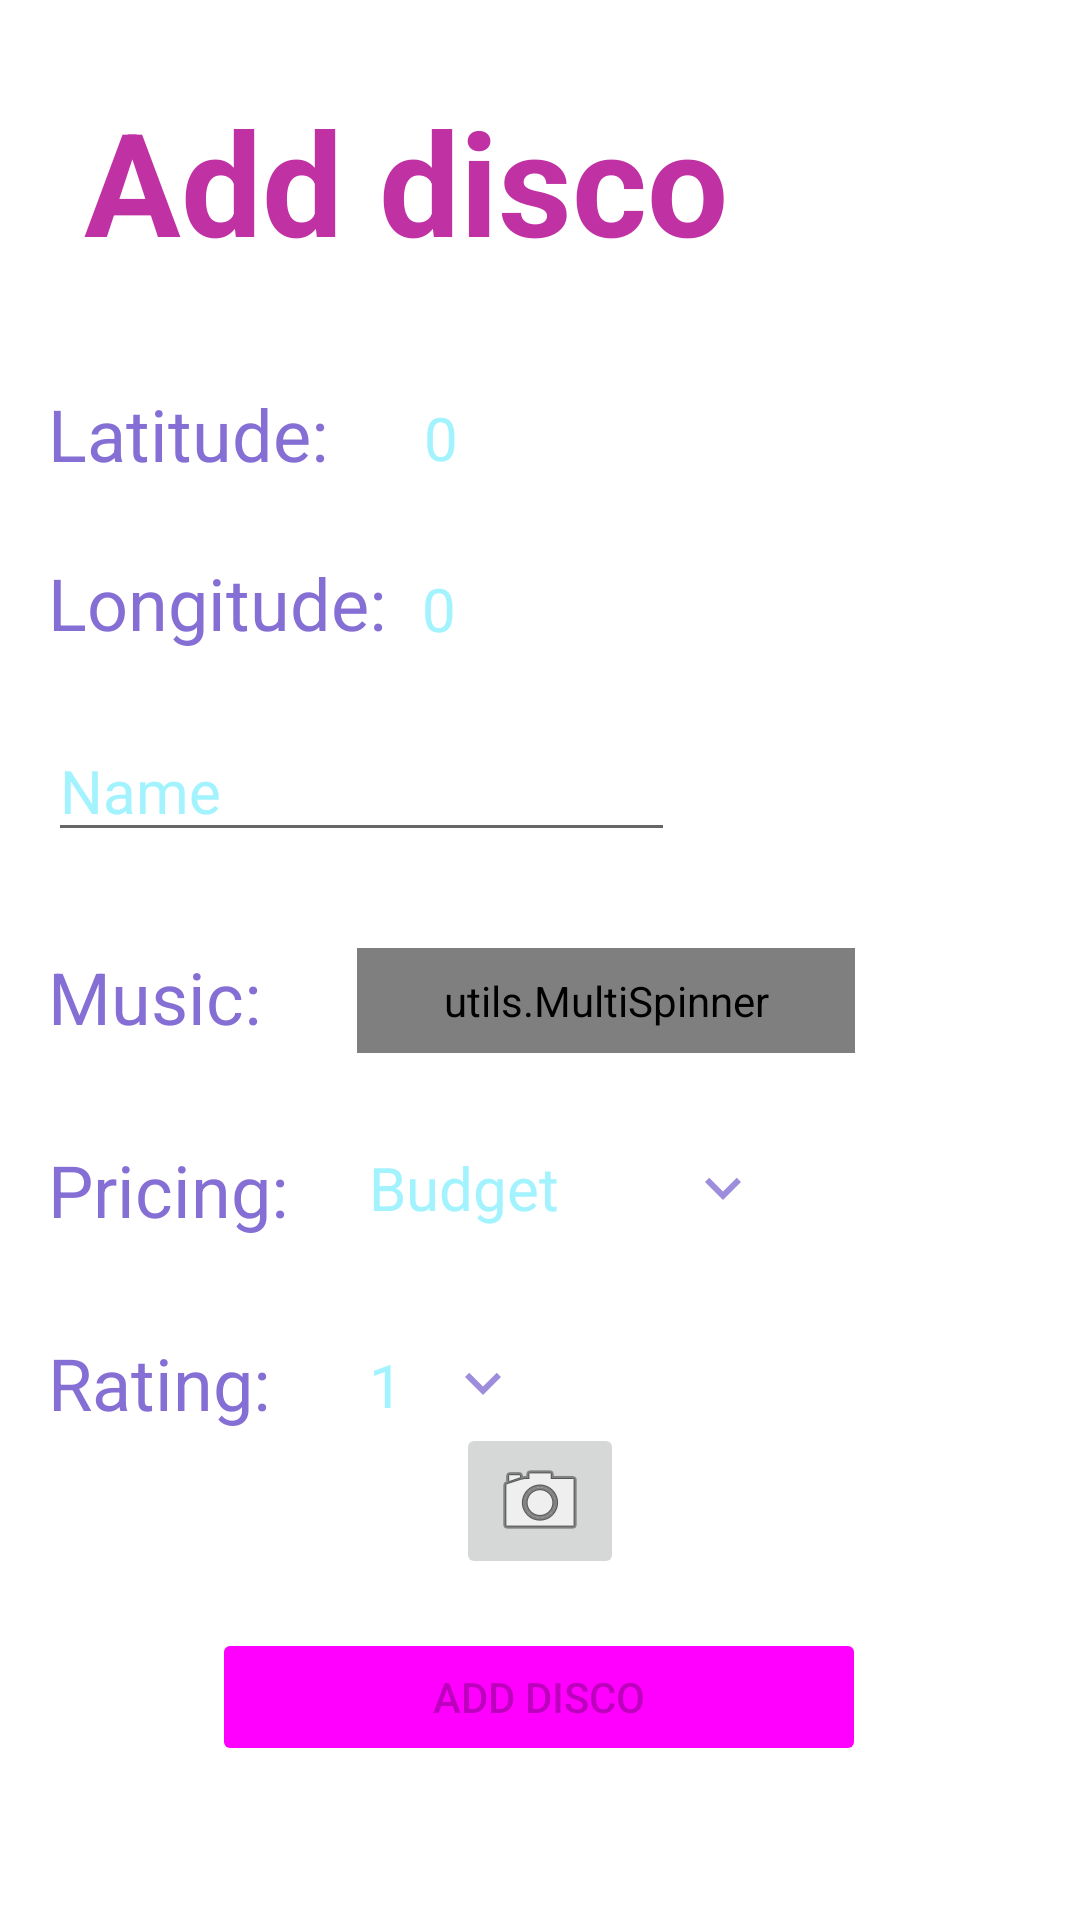

Icon click points for this 1080w x 1920h phone screenshot, format (x=x, y=y):
Image for disco to be added: (x=540, y=1501)
